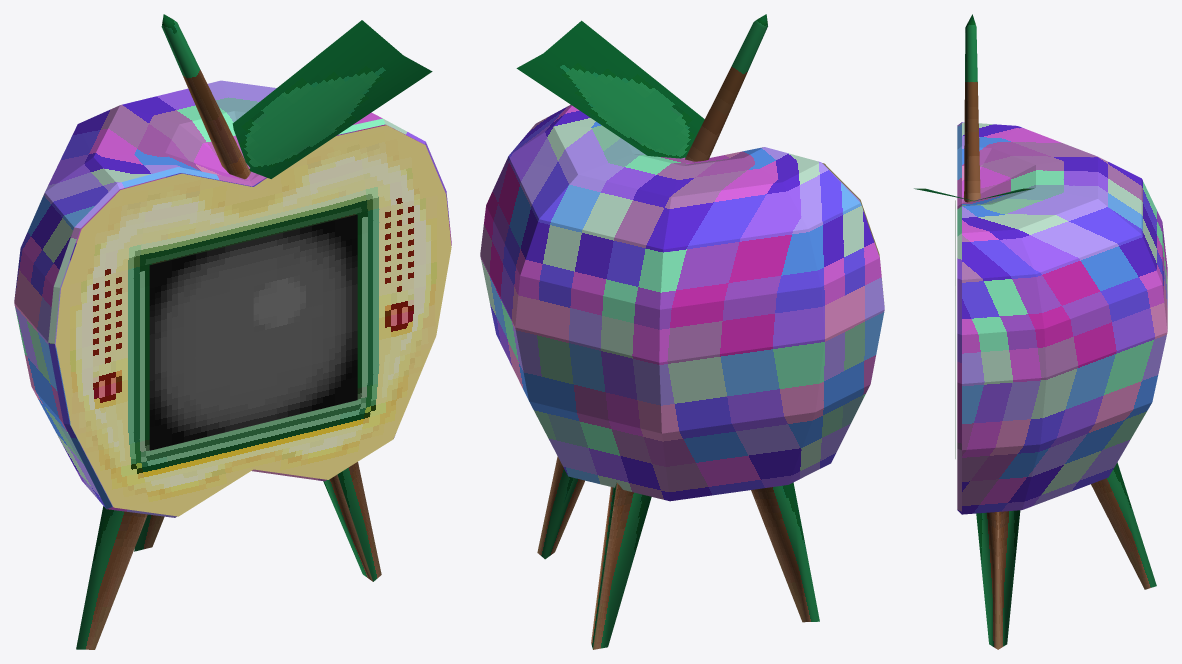
Rendered from rmk_apl_tv_jwl.dae.
The picture shows the model from 3 angles, left to right: view 1: azimuth 30°, elevation 25°; view 2: azimuth 150°, elevation 25°; view 3: azimuth 270°, elevation 25°; orthographic projection. The views are drawn at different scales.
Parts seen in each view (by area): view 1: rmk_apl_tv_jwl; view 2: rmk_apl_tv_jwl; view 3: rmk_apl_tv_jwl.
Boxes of the visible parts, x1=… form: rmk_apl_tv_jwl: x1=14, y1=14, x2=451, y2=649; rmk_apl_tv_jwl: x1=480, y1=14, x2=884, y2=649; rmk_apl_tv_jwl: x1=914, y1=14, x2=1167, y2=649.
Bounding box in the file's own units: 26.4 × 39.3 × 16.8.
Materials: 3 (3 with a texture image).
